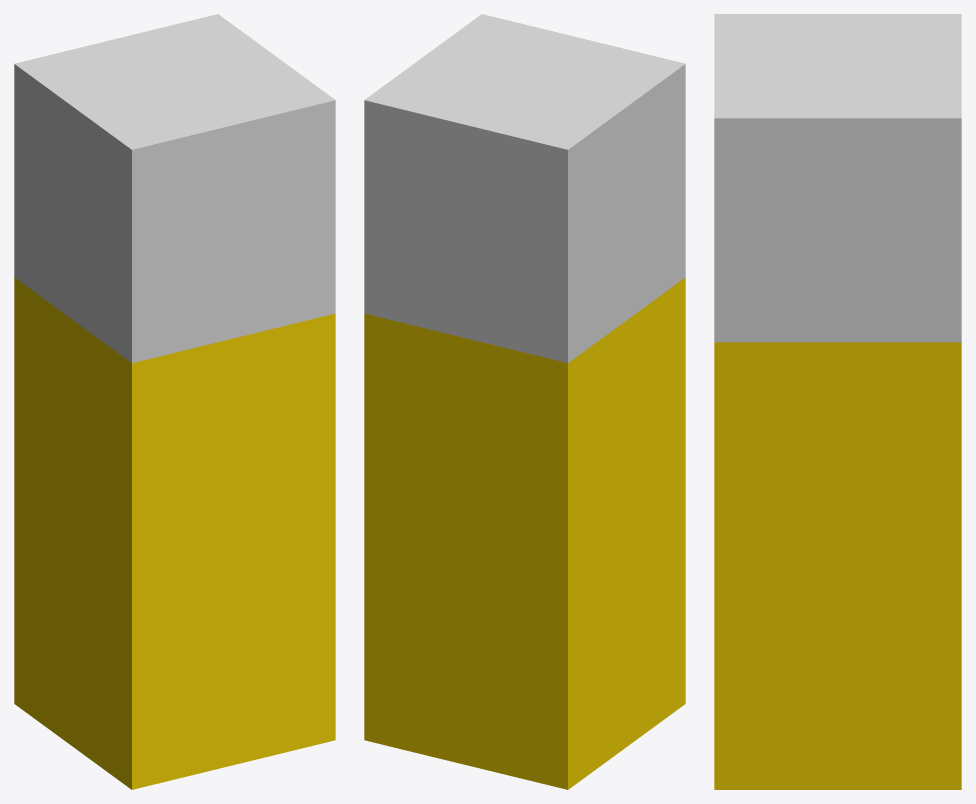
The model's file is Flask_for_Texturing-2.obj.
3 renders of one model, left to right at view 1: azimuth 30°, elevation 25°; view 2: azimuth 150°, elevation 25°; view 3: azimuth 270°, elevation 25°, orthographic. The views are drawn at different scales.
Bounding box in the file's own units: 0.1 × 0.3 × 0.1.
Materials: 1 (1 with a texture image).
